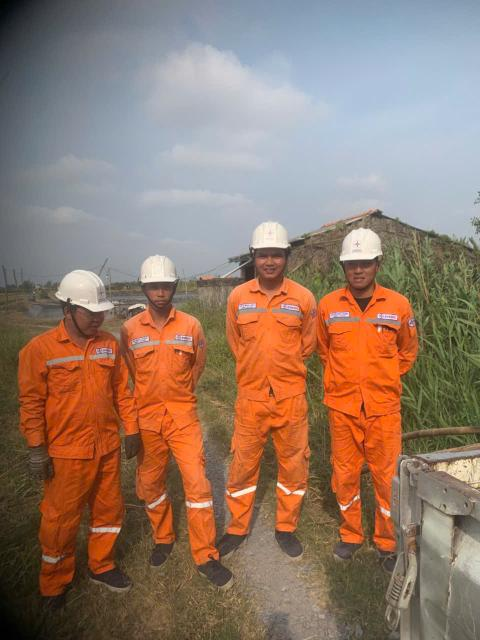gloves: (21, 438, 59, 486), (116, 421, 147, 462)
helmet: (56, 266, 113, 317), (333, 222, 385, 268), (248, 216, 296, 262), (136, 253, 182, 289)
shoes: (195, 542, 247, 595), (86, 551, 135, 607), (30, 573, 83, 624), (142, 529, 183, 576), (328, 524, 368, 571), (376, 527, 416, 573), (213, 517, 254, 561), (274, 513, 310, 559)
